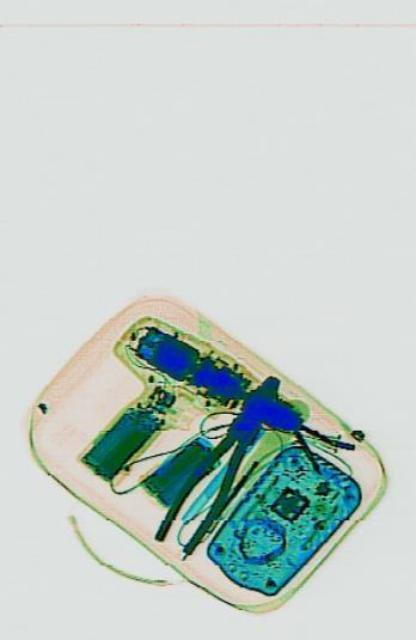Pliers: (149, 351, 285, 573)
